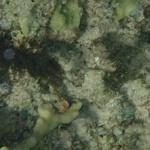dead: (1, 2, 148, 146)
